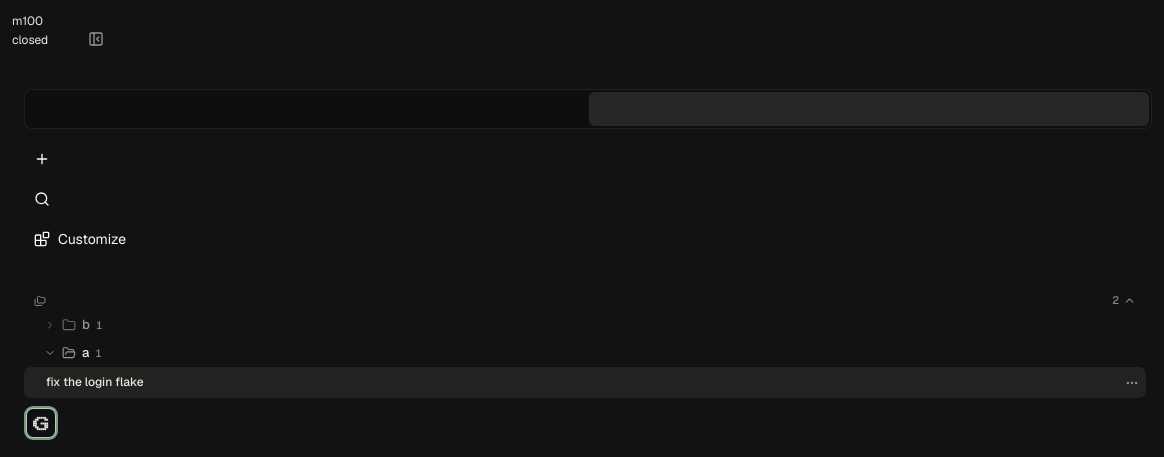
Scenario: Sidebar conversations list › collapses and reopens a project folder without losing its sessions
Expected: the text "fix the login flake" is shown, [46,376,144,390]
Click the button "a 1" at (50, 353), box [24,339,1146,367]
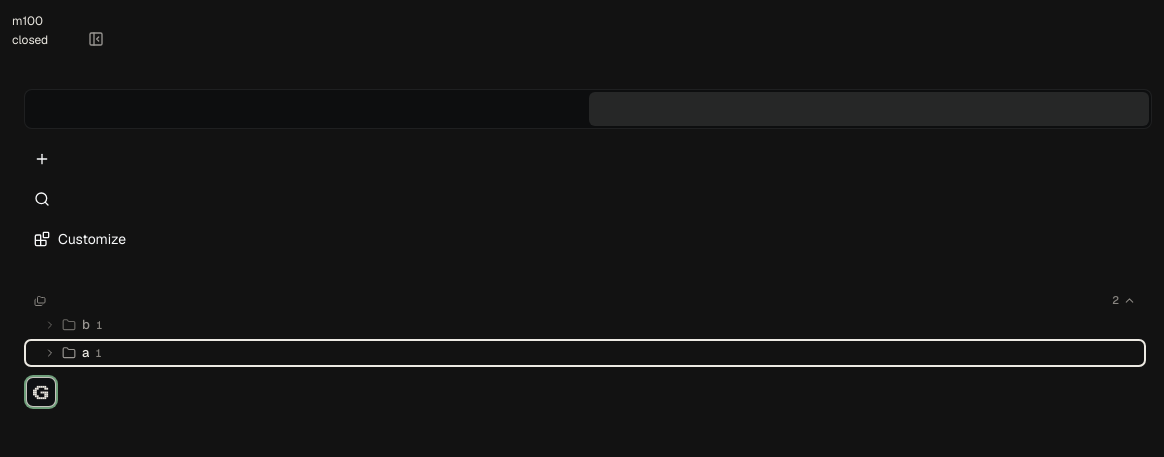
Result: the button "a 1" is collapsed
Result: the button "fix the login flake" is gone
Click the button "a 1" at (50, 353), box [24,339,1146,367]
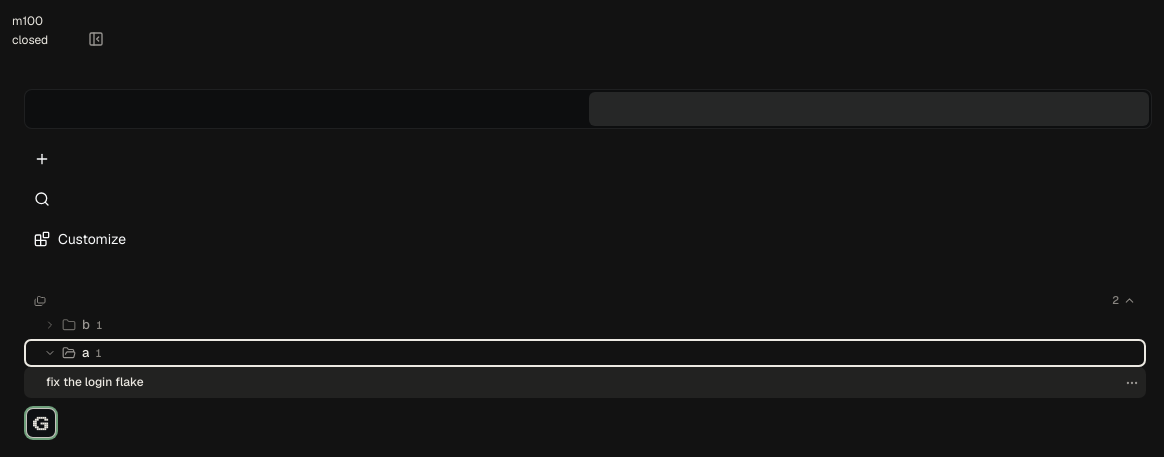
Result: the text "fix the login flake" is shown at [46,376,144,390]
